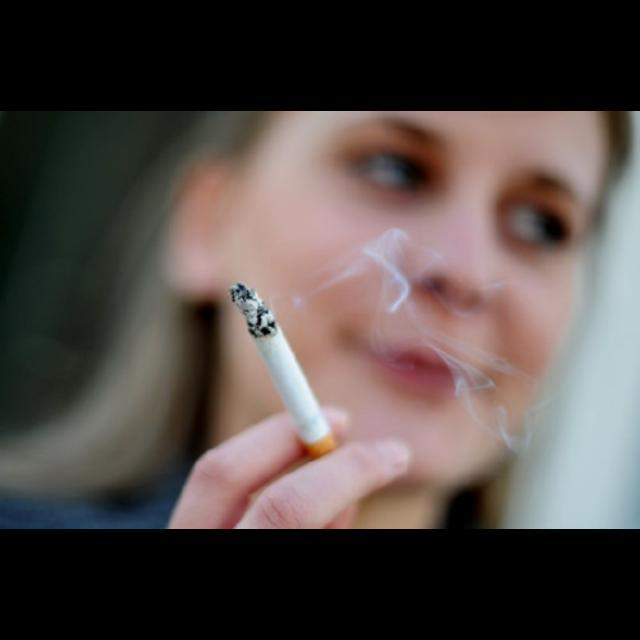rokok: (213, 276, 351, 462)
